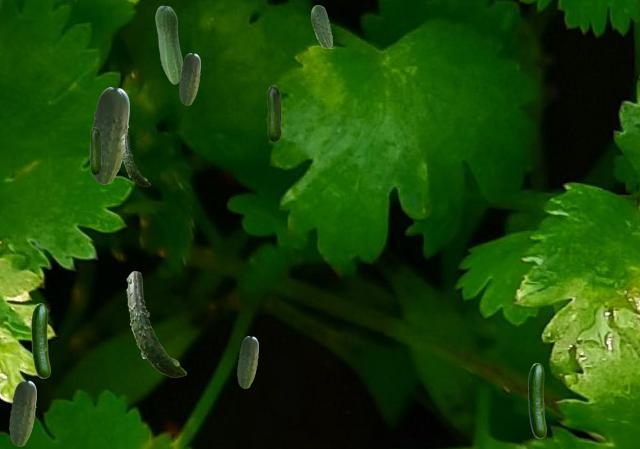cucumber: (126, 271, 185, 376), (89, 87, 128, 183), (155, 5, 182, 83), (9, 380, 35, 445), (121, 134, 149, 185), (31, 303, 49, 377), (528, 363, 545, 437), (237, 336, 257, 387), (179, 53, 199, 104), (311, 5, 331, 47), (267, 85, 280, 141), (90, 127, 100, 174)
